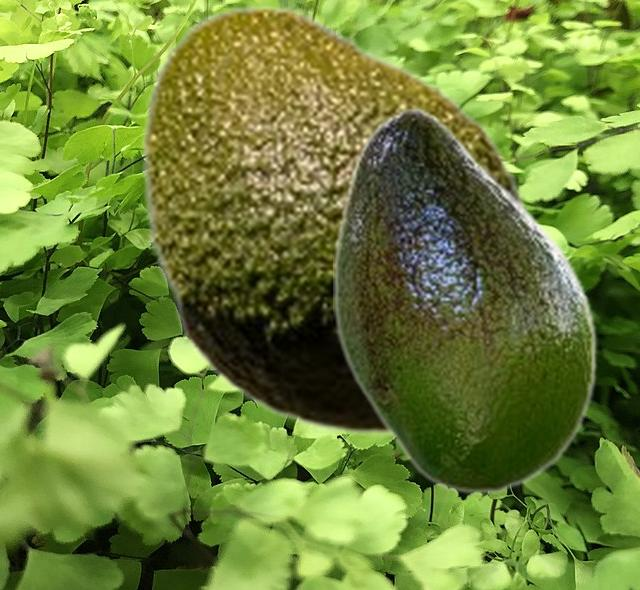avocado: (139, 3, 527, 437), (333, 106, 597, 493)
